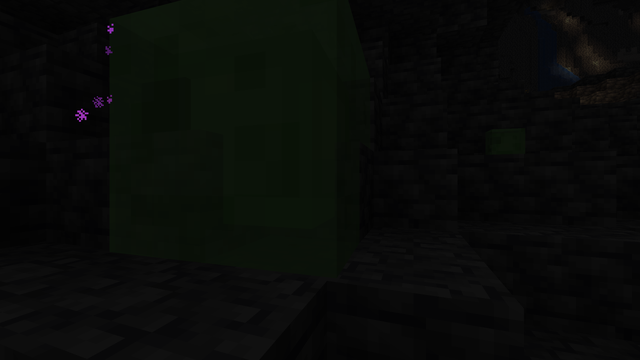slimes: (103, 9, 376, 284), (483, 126, 524, 153)
